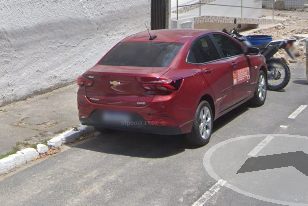car: (73, 21, 271, 150)
